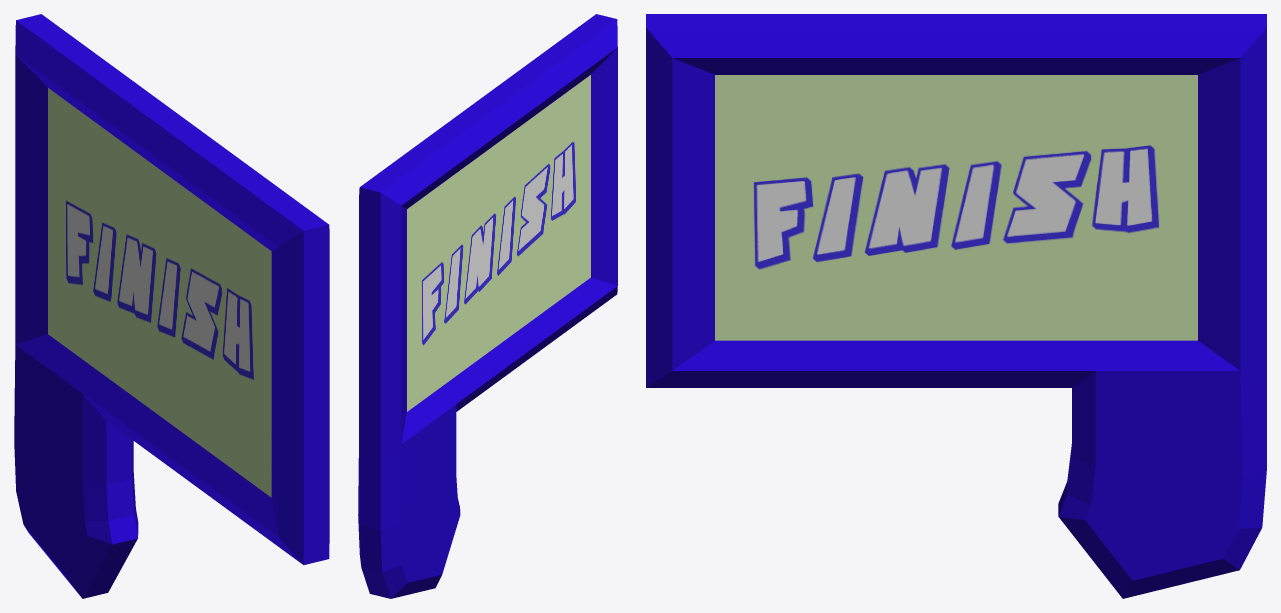
File: Sign_V3_MES.FBX
3 renders of one model, left to right at view 1: azimuth 30°, elevation 25°; view 2: azimuth 150°, elevation 25°; view 3: azimuth 270°, elevation 25°, orthographic. The views are drawn at different scales.
Visible parts, largest first — view 1: SignWithArrowLeft; view 2: SignWithArrowLeft; view 3: SignWithArrowLeft.
Boxes of the visible parts, x1,y1,x2,y2 form: SignWithArrowLeft: [14, 14, 329, 598]; SignWithArrowLeft: [358, 14, 617, 598]; SignWithArrowLeft: [646, 14, 1266, 598].
Bounding box in the file's own units: 20 × 198 × 195.
